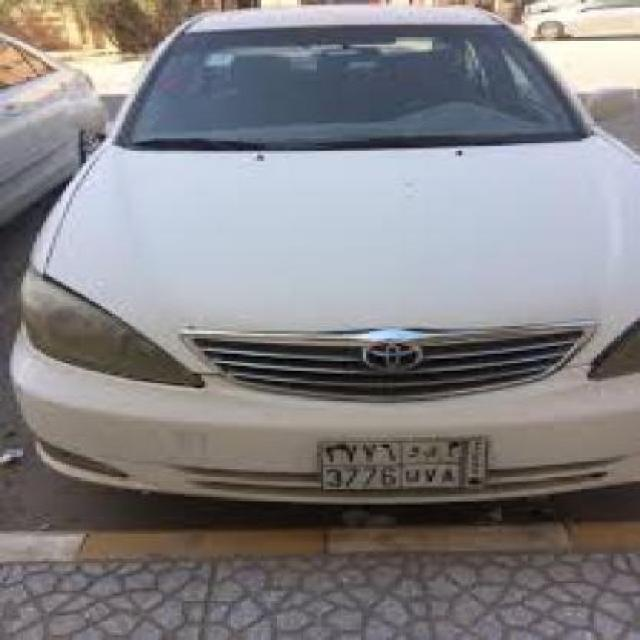license_plate: (316, 435, 496, 497)
